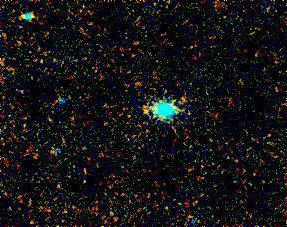star: (133, 94, 163, 124)
